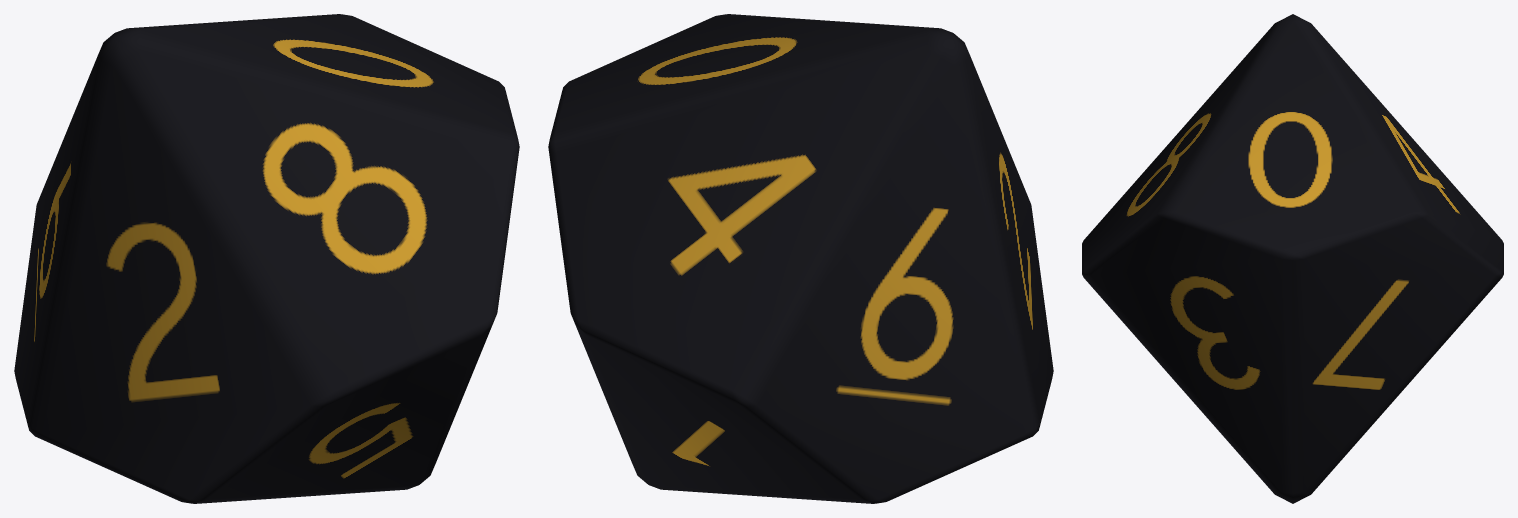
3 renders of one model, left to right at view 1: azimuth 30°, elevation 25°; view 2: azimuth 150°, elevation 25°; view 3: azimuth 270°, elevation 25°, orthographic. The views are drawn at different scales.
Parts seen in each view (by area): view 1: d10; view 2: d10; view 3: d10.
Part boxes in pixels (box(x1,y1,x2,y2)): d10: box(14, 14, 519, 503); d10: box(548, 14, 1053, 503); d10: box(1082, 14, 1503, 503).
Size of the model in its own units: 1.12 by 1.19 by 1.18.
1 material, 1 textured.
